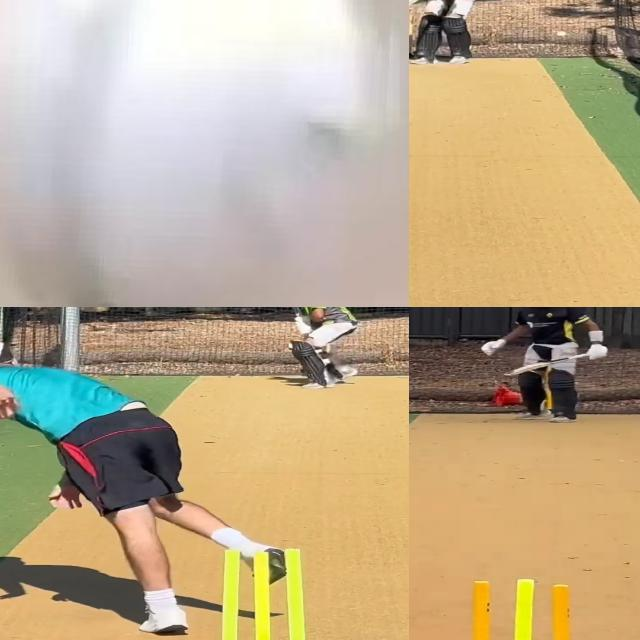Cricket ball: (0, 0, 401, 307), (554, 31, 569, 37)
Stumps: (215, 547, 316, 640), (451, 577, 582, 640)
